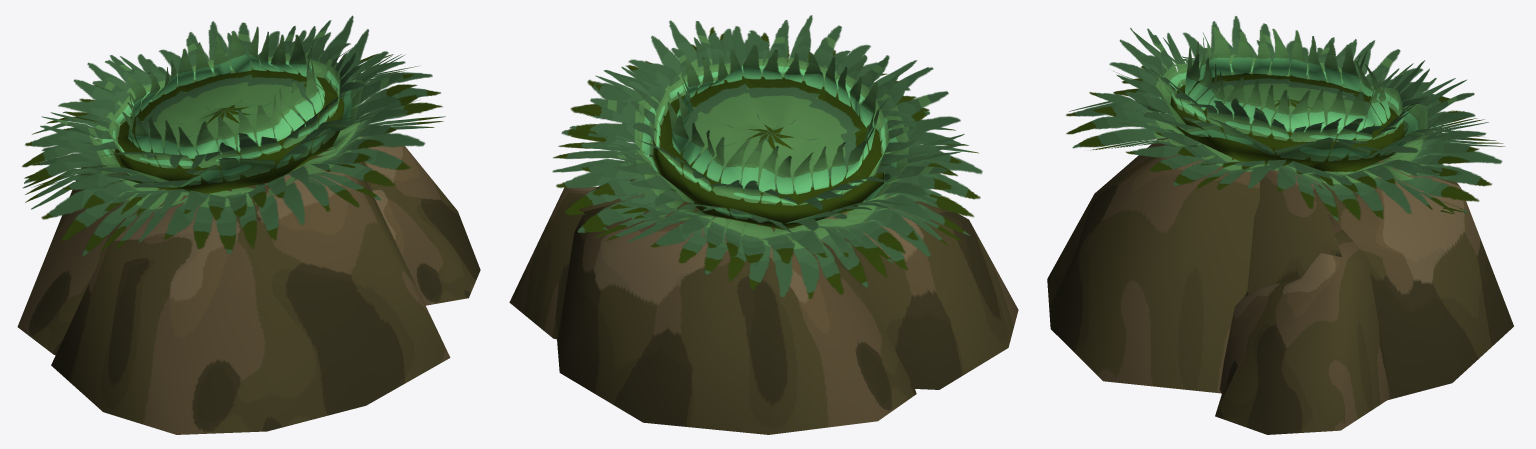
File: Giant Green Anemone 1_preview_3DS_simplified.glb
The picture shows the model from 3 angles, left to right: view 1: azimuth 30°, elevation 25°; view 2: azimuth 150°, elevation 25°; view 3: azimuth 270°, elevation 25°; orthographic projection. The views are drawn at different scales.
Parts seen in each view (by area): view 1: Marine Park Empire model; view 2: Marine Park Empire model; view 3: Marine Park Empire model.
Part boxes in pixels (x1,y1,x2,y2): Marine Park Empire model: (17, 15, 480, 434); Marine Park Empire model: (509, 15, 1018, 434); Marine Park Empire model: (1047, 16, 1513, 434).
Size of the model in its own units: 37.96 by 22.26 by 35.14.
2 materials, 2 textured.
